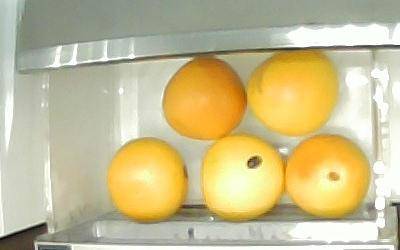grapefruit: (244, 50, 338, 135), (284, 132, 370, 218), (200, 133, 284, 219), (161, 57, 246, 140), (106, 136, 189, 221)
